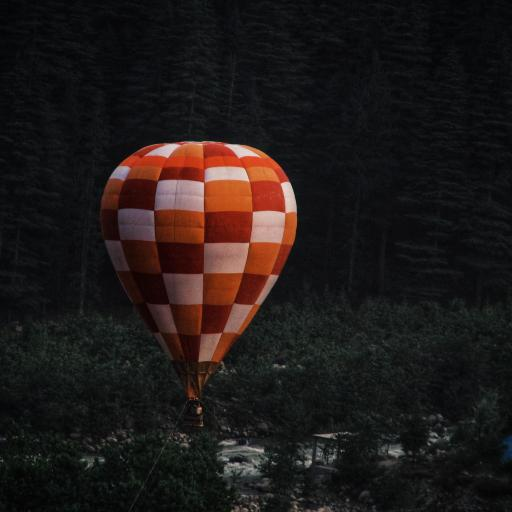hot air ballon: (99, 136, 299, 433)
